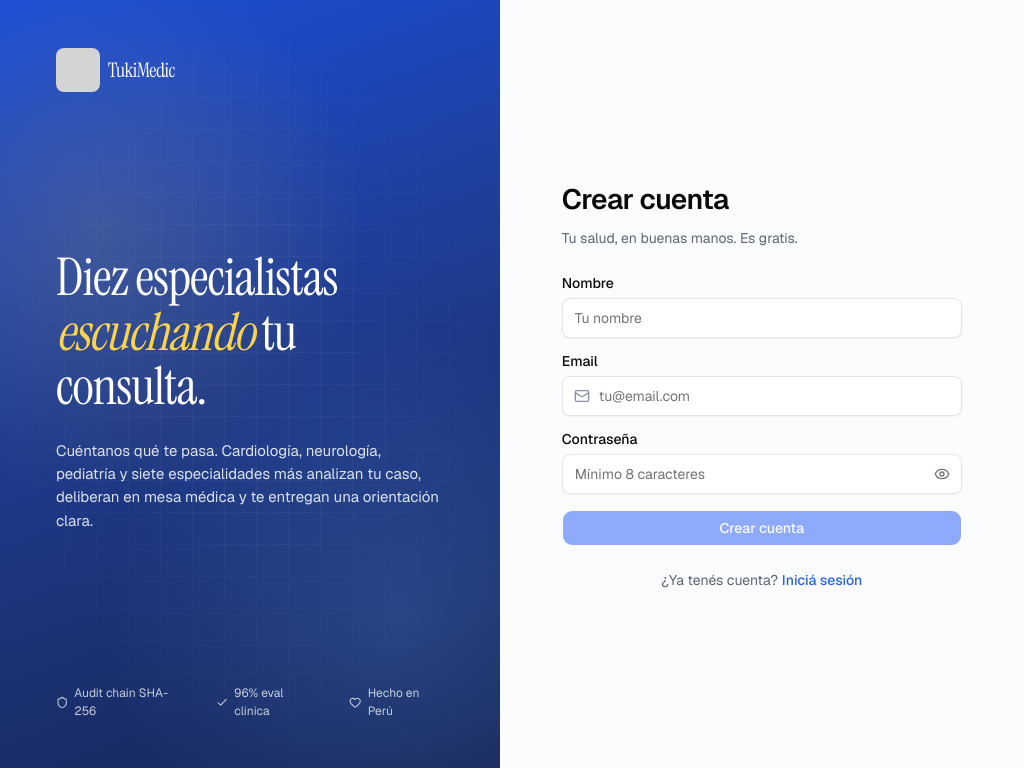
Test case: RegisterPage › shows email-already-registered error on 400
This screenshot has width=1024, height=768.
Type "existing@test.com" into the field labelled "Email". click: coordinates (762, 396)
box: [562,376,962,416]
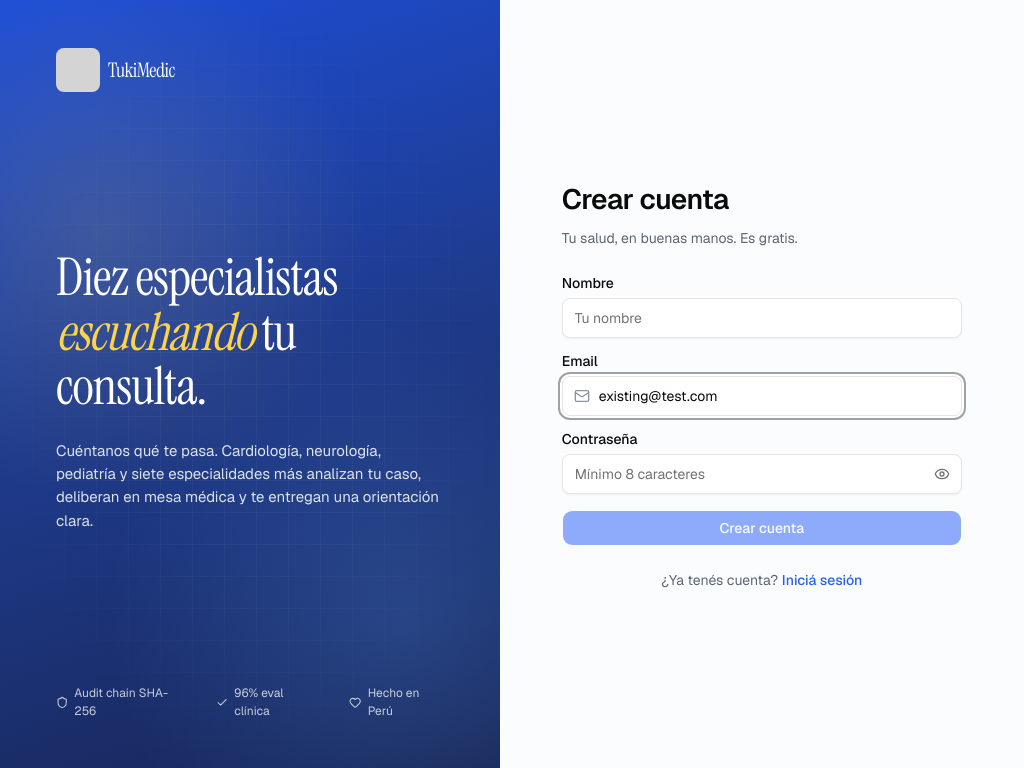
Type "password123" into the password field labelled "Contraseña". click: coordinates (762, 474)
box: [562,454,962,494]
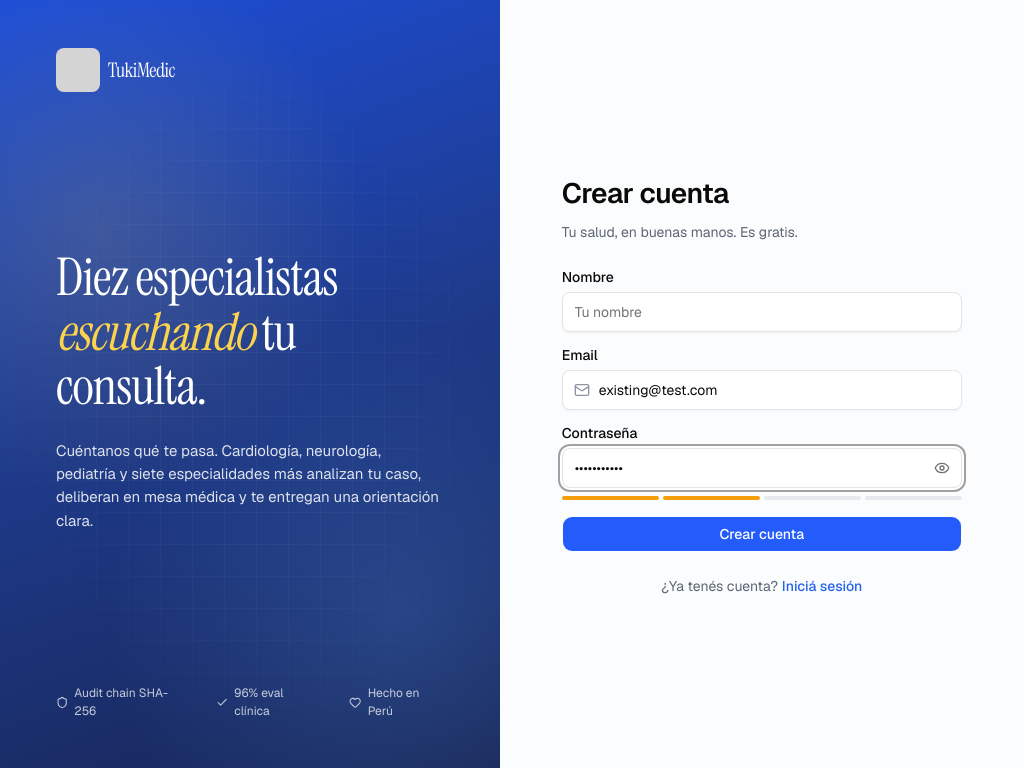
Click the button "Crear cuenta". click: coordinates (762, 534)
box: [562,516,962,552]
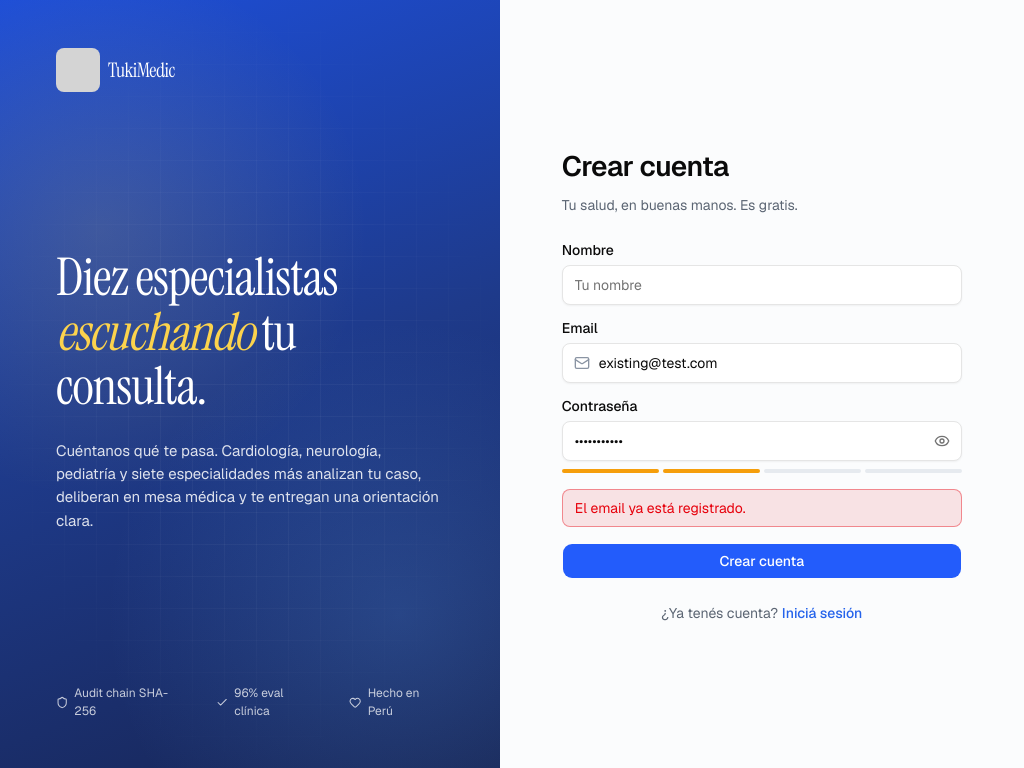
Now the message shows "ya está registrado", box [575,499,746,517]
